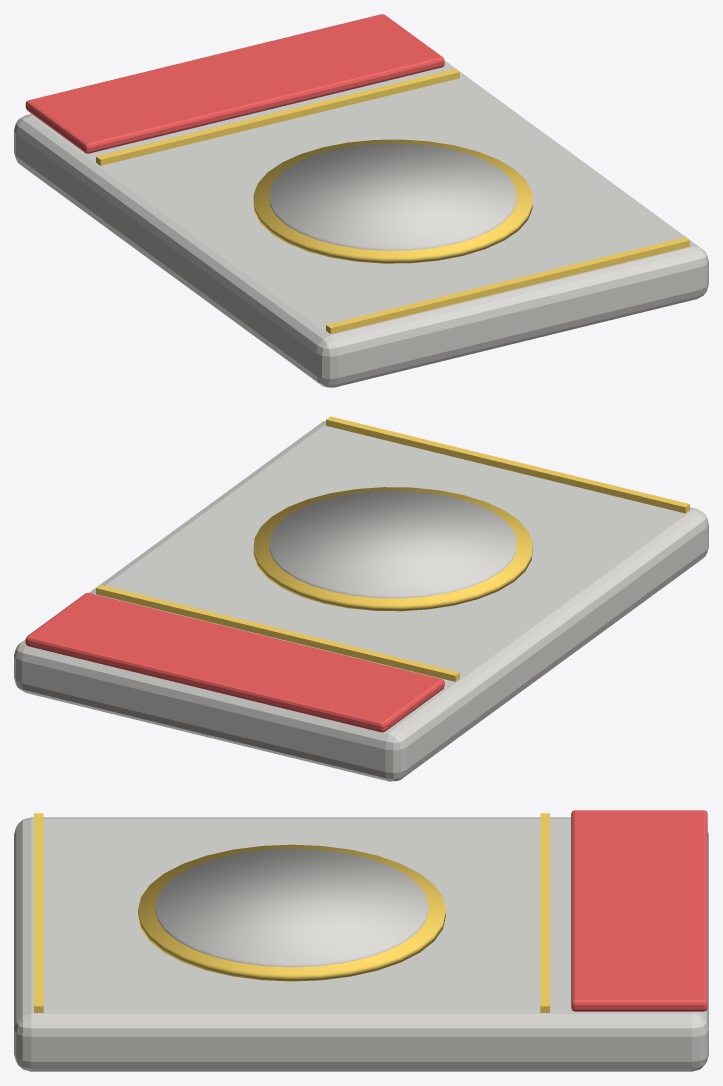
File: Tile_City.fbx
The picture shows the model from 3 angles, top to bottom: view 1: azimuth 30°, elevation 25°; view 2: azimuth 150°, elevation 25°; view 3: azimuth 270°, elevation 25°; orthographic projection. The views are drawn at different scales.
Parts seen in each view (by area): view 1: Tile_City; view 2: Tile_City; view 3: Tile_City.
Part boxes in pixels (x1,y1,x2,y2): Tile_City: (14,14,708,387); Tile_City: (14,416,708,781); Tile_City: (14,810,708,1071).
Bounding box in the file's own units: 2 × 0.3 × 2.8.
